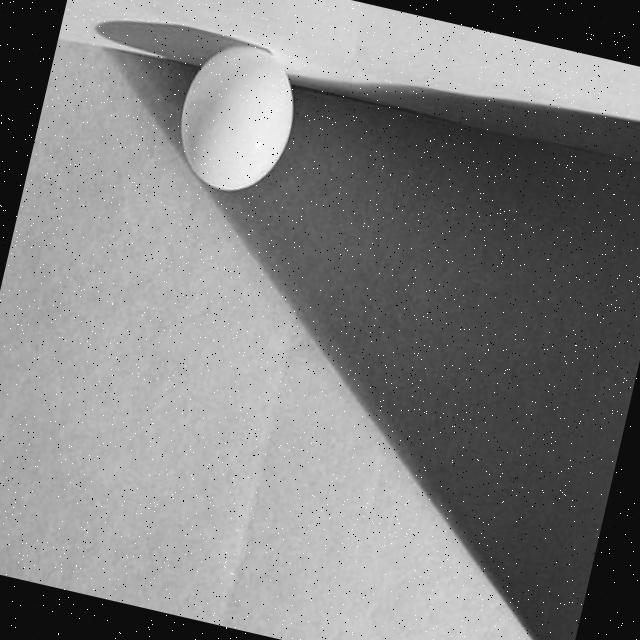ping-pong-ball: (162, 24, 310, 205)
